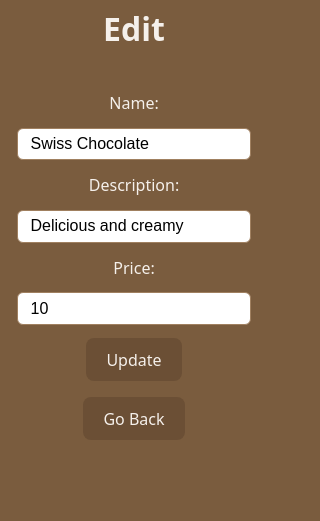
Test case: EditProduct should › shows success message after product is updated
Replace the text in the field labelled "Price:" with "20" at (134, 309), box [17, 292, 251, 325]
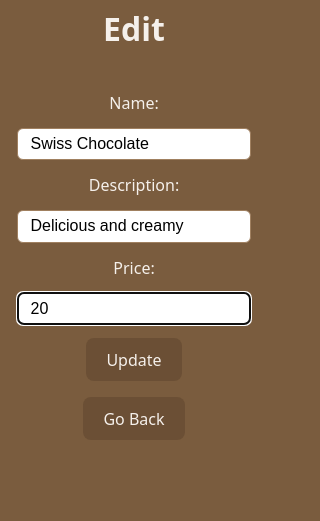
Click the button "Update" at (134, 360), box [86, 338, 182, 381]
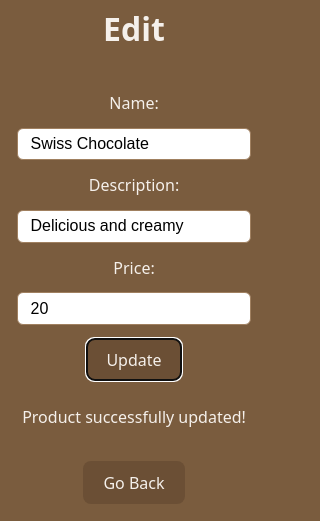
Result: the text "Product successfully updated!" is shown at [22, 405, 246, 429]
